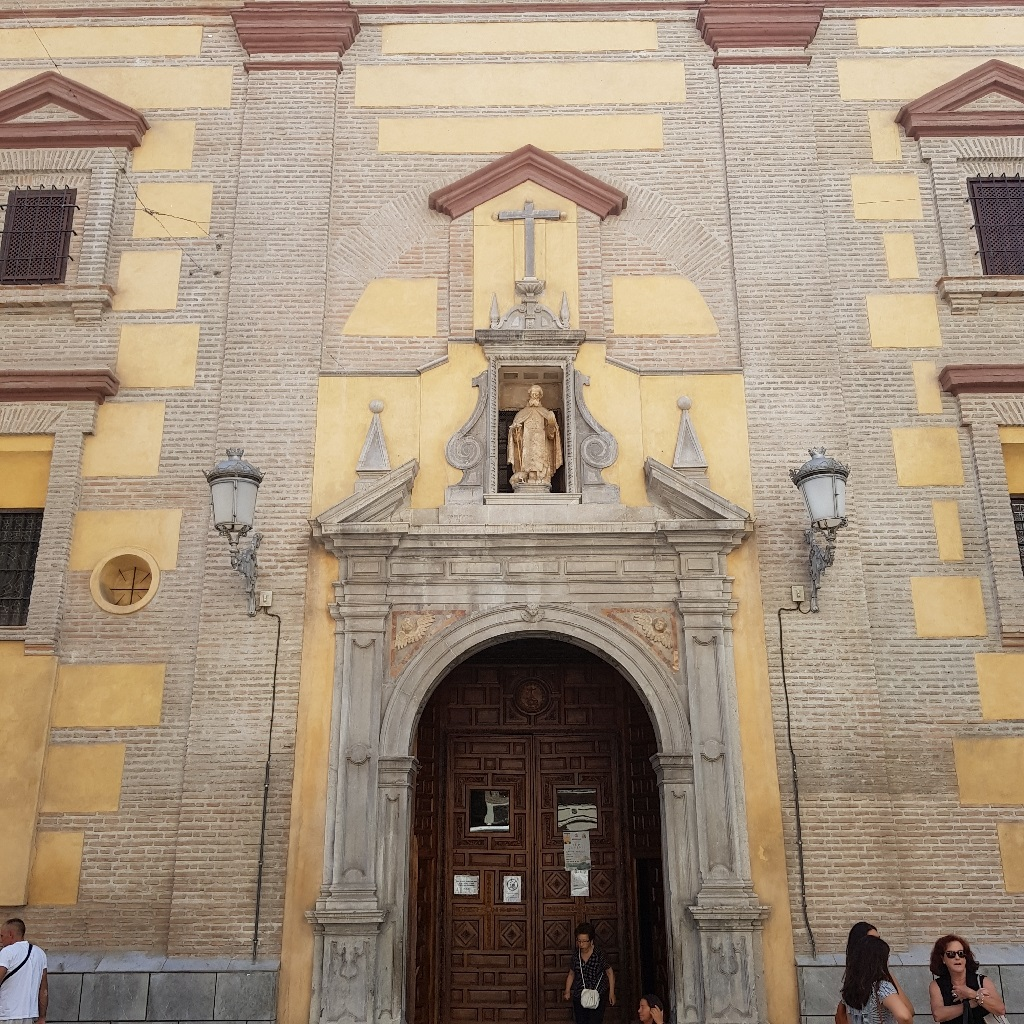arco-medio-punto: (395, 623, 674, 800)
fronton: (5, 70, 154, 146), (895, 57, 1024, 136)
fronton-partido: (311, 453, 757, 539)
vano-adintelado: (1, 165, 96, 288), (953, 152, 1024, 281)
